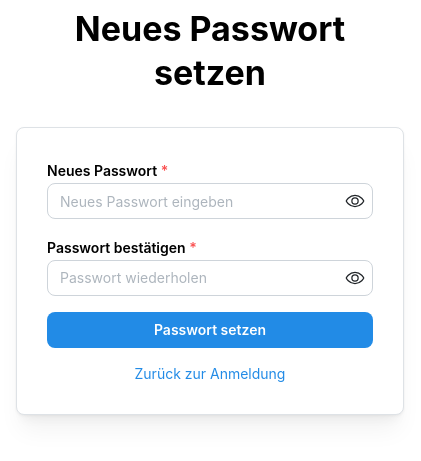
Scenario: SetPassword › validates that both passwords match
The image size is (421, 461).
In the password field labelled "Neues Passwort *": (210, 201) x1=48 y1=184 x2=372 y2=218, type "password123"
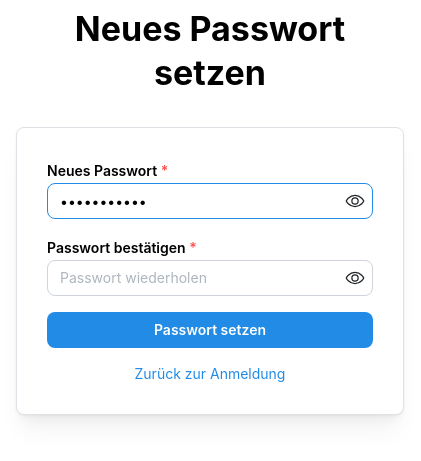
In the password field labelled "Passwort bestätigen *": (210, 278) x1=48 y1=261 x2=372 y2=295, type "different123"
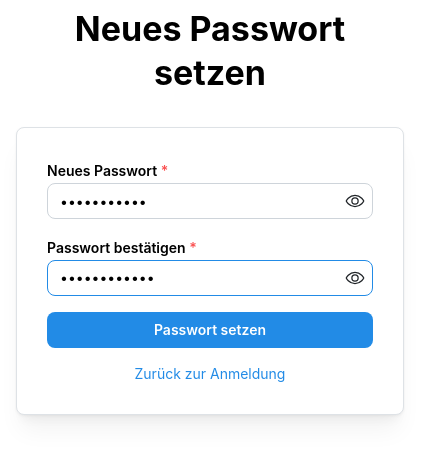
Click the button "Passwort setzen": (210, 330) x1=47 y1=312 x2=373 y2=348
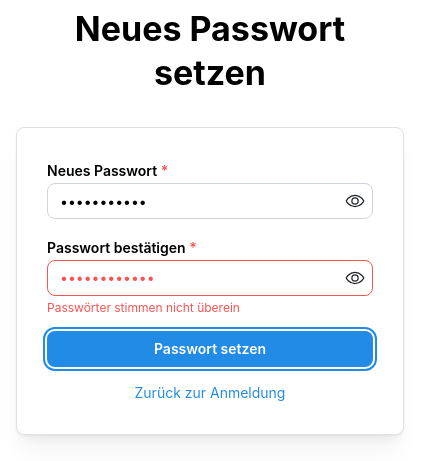
Check: the text "Passwörter stimmen nicht überein" is shown, box x1=47 y1=300 x2=240 y2=315
